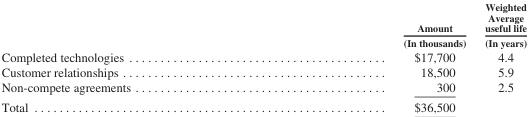table: (0, 1, 526, 114)
table column: (0, 1, 267, 114), (267, 1, 474, 114), (474, 1, 526, 114)
table column header: (0, 1, 526, 48)
table row: (0, 1, 526, 48), (0, 79, 526, 97), (0, 97, 526, 114), (0, 48, 526, 64), (0, 64, 526, 79)
